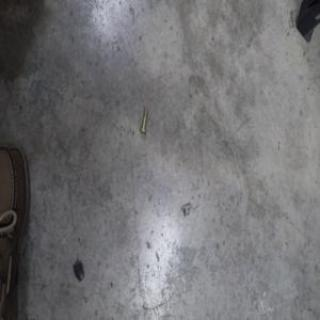Bolttrack_idkeyframe: (138, 106, 148, 135)
